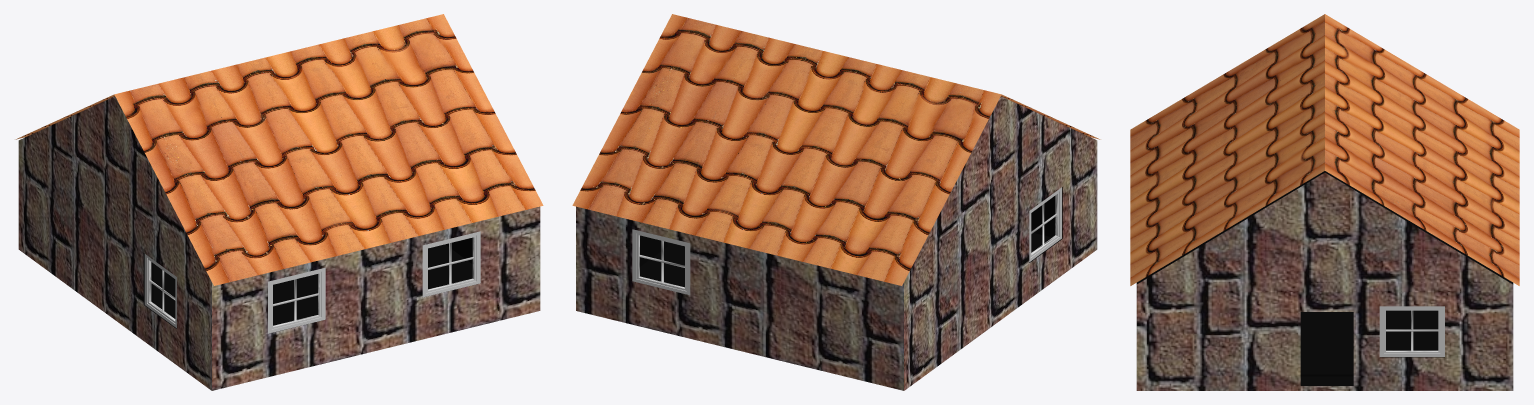
Rendered from house mini.fbx.
3 renders of one model, left to right at view 1: azimuth 30°, elevation 25°; view 2: azimuth 150°, elevation 25°; view 3: azimuth 270°, elevation 25°, orthographic. The views are drawn at different scales.
Parts seen in each view (by area): view 1: roof ogol.1floor.001, dom1floor.001, Window Frame Ac 1.009, Window Frame Ac 1.019, Window Frame Ac 1.013; view 2: roof ogol.1floor.001, dom1floor.001, Window Frame Ac 1.020, Window Frame Ac 1.013; view 3: roof ogol.1floor.001, dom1floor.001, Window Frame Ac 1.015.
Boxes of the visible parts, x1=… form: roof ogol.1floor.001: x1=15, y1=14, x2=543, y2=285; dom1floor.001: x1=18, y1=96, x2=540, y2=390; Window Frame Ac 1.009: x1=422, y1=231, x2=480, y2=297; Window Frame Ac 1.019: x1=268, y1=267, x2=325, y2=333; Window Frame Ac 1.013: x1=144, y1=254, x2=176, y2=328; roof ogol.1floor.001: x1=572, y1=14, x2=1100, y2=285; dom1floor.001: x1=576, y1=96, x2=1097, y2=390; Window Frame Ac 1.020: x1=632, y1=229, x2=690, y2=295; Window Frame Ac 1.013: x1=1029, y1=187, x2=1061, y2=261; roof ogol.1floor.001: x1=1130, y1=14, x2=1519, y2=285; dom1floor.001: x1=1136, y1=171, x2=1513, y2=390; Window Frame Ac 1.015: x1=1379, y1=306, x2=1444, y2=356.
Size of the model in its own units: 2314 by 1517 by 2428.
